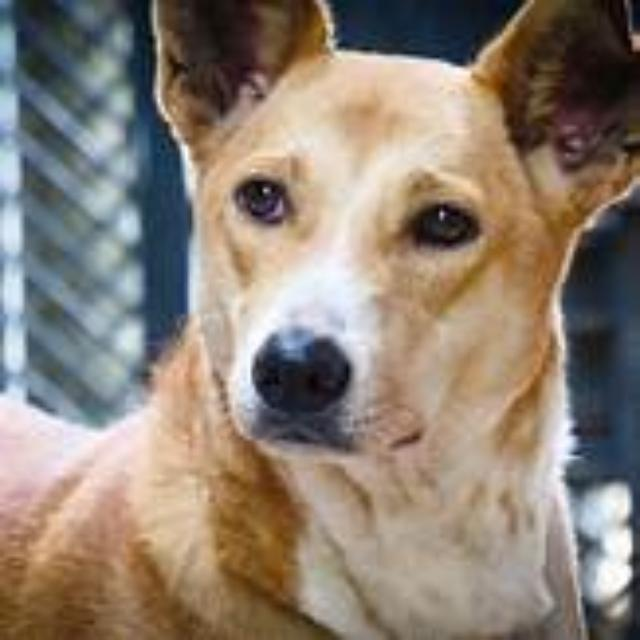dog: (26, 0, 640, 578)
